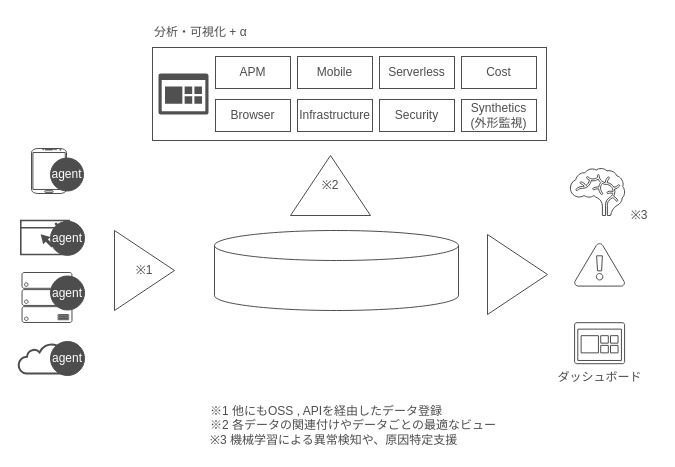
The diagram is 675 pixels wide and 467 high, and some of its shapes have lost their labels. Here are the shapes that lost their labels. From the top down, the centre of each, then its label:
(x=597, y=192): 知的な機能
(x=336, y=270): テレメトリーデータ （システムの状態を表すデータ）
(x=599, y=264): アラート
